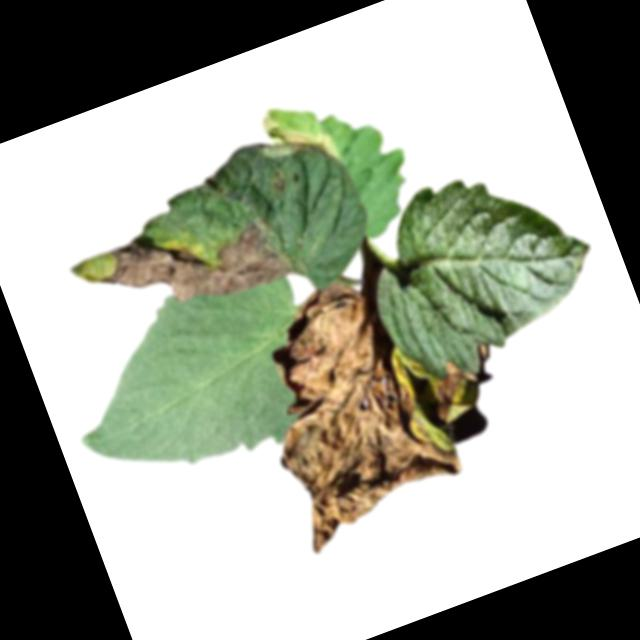Late_blight: (228, 263, 474, 556), (90, 189, 293, 339), (248, 92, 338, 181), (418, 354, 482, 424)
healthy: (42, 251, 345, 507), (341, 138, 622, 398)
